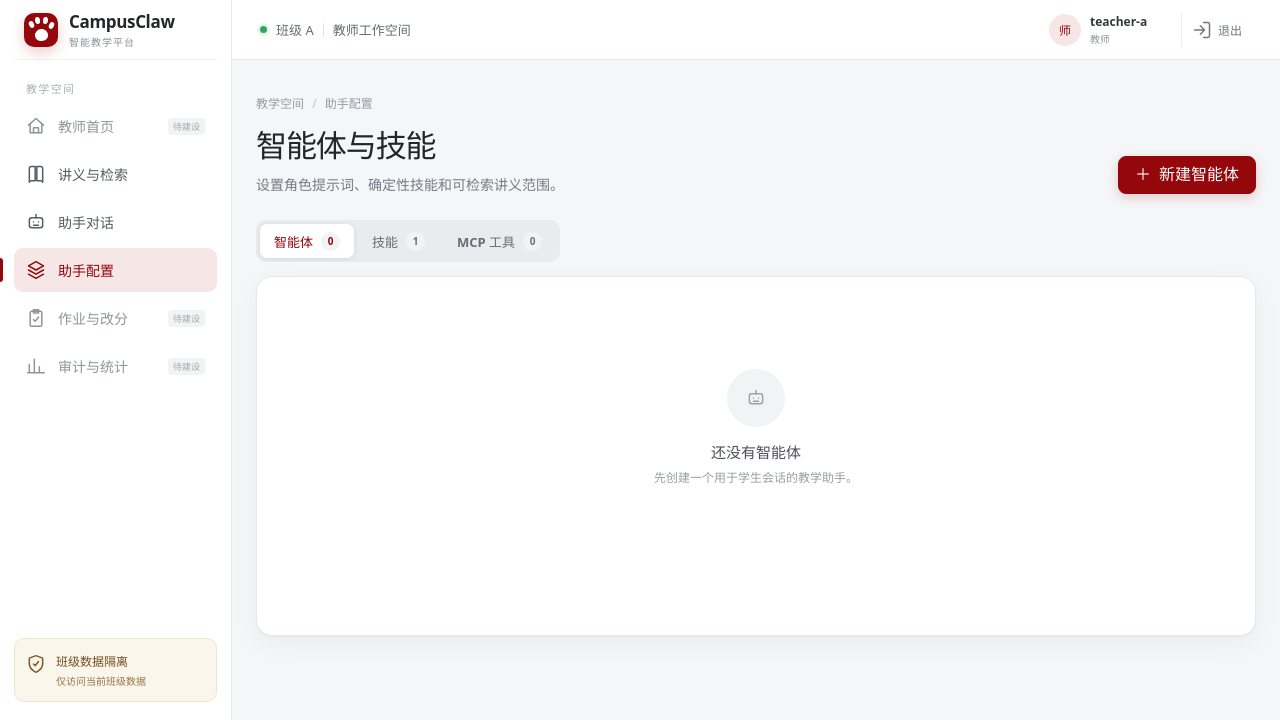
Test case: AgentConfigView › shows bound tools directly on each skill card
What coordinates should you click on to do the following:
click the tab "技能 1"
I would click on:
 (398, 241)
Its box is [358, 224, 439, 258].
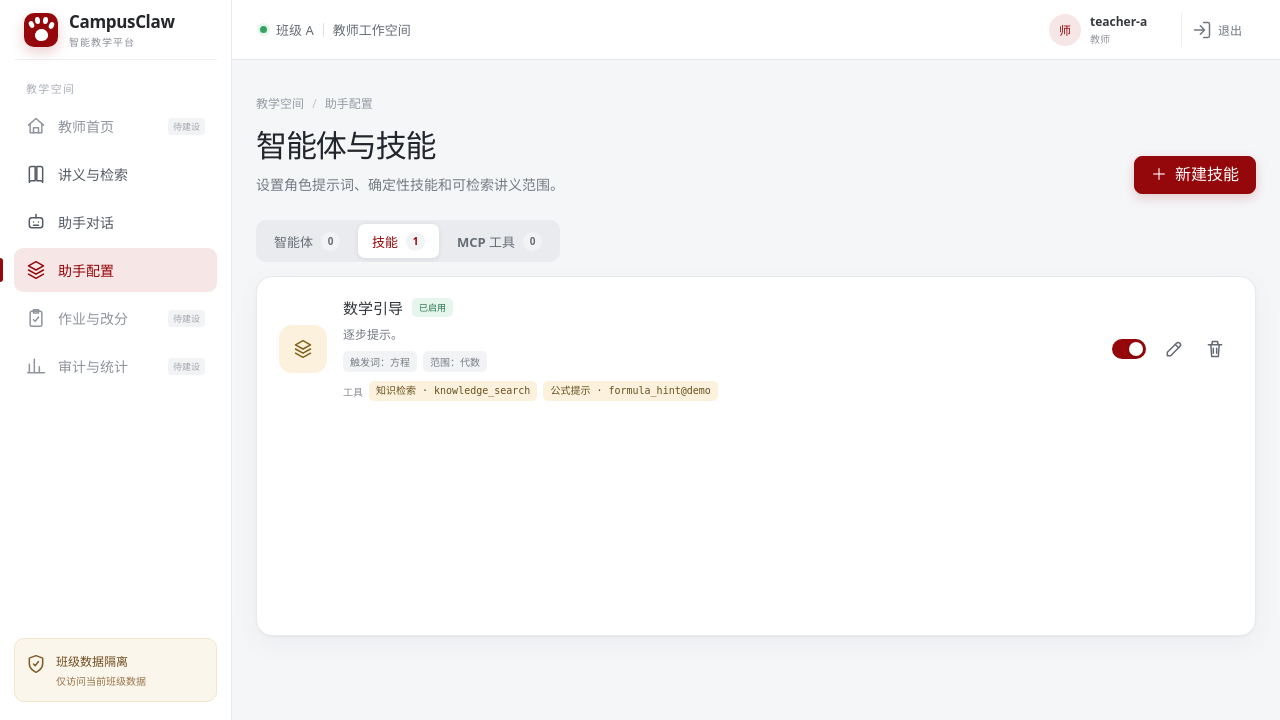
Now the element with class "skill-tool-summary" shows "知识检索 · knowledge_search", box [376, 385, 530, 396]
Now the element with class "skill-tool-summary" shows "formula_hint@demo", box [550, 385, 711, 396]
